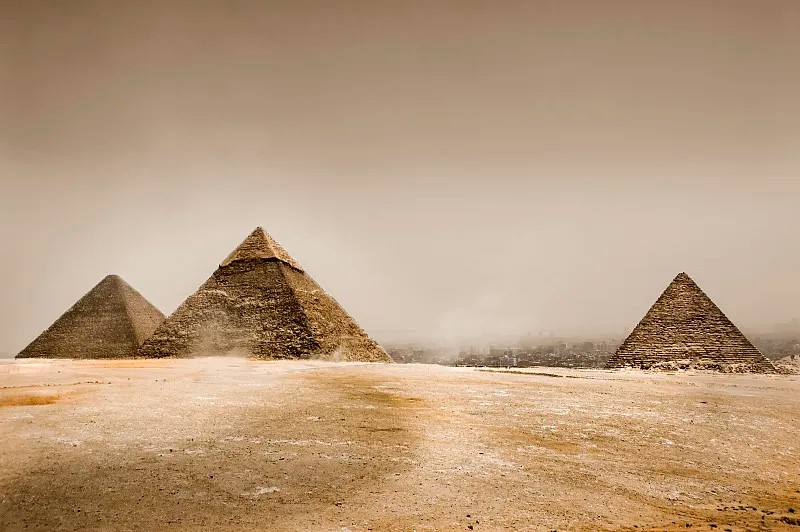Pyramid: (134, 228, 397, 363), (604, 270, 779, 369), (16, 275, 166, 357)
